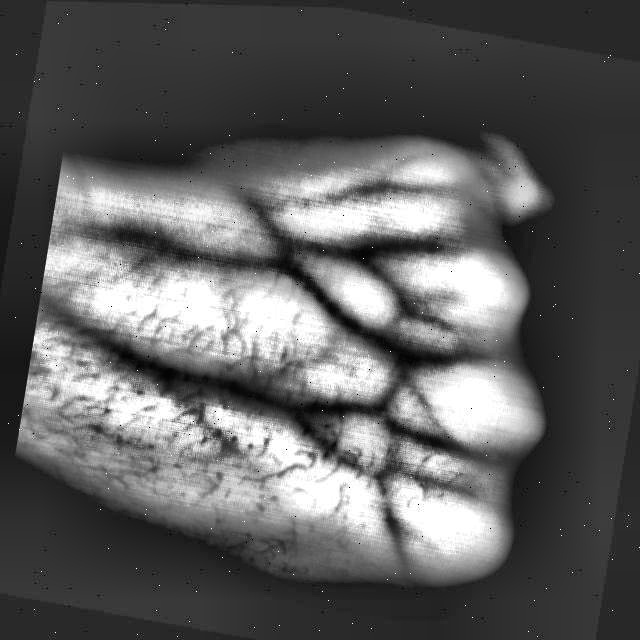Vein: (114, 340, 296, 429)
